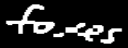foxes: (0, 0, 128, 48)
